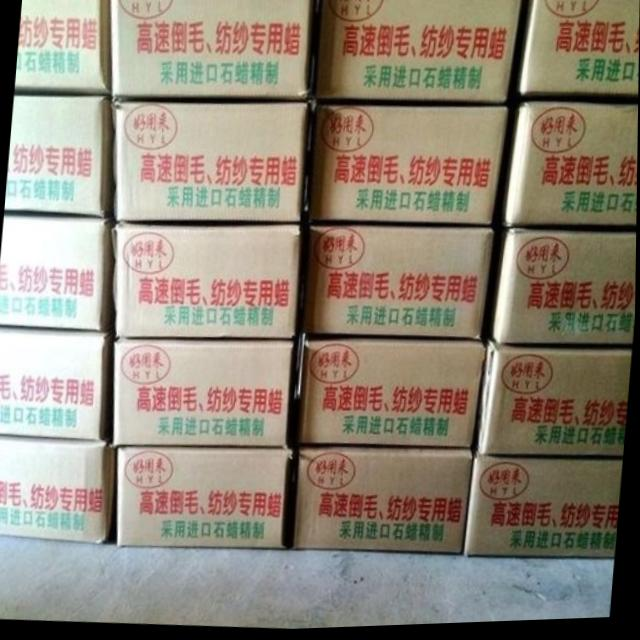box: (311, 108, 508, 227), (112, 105, 307, 224), (110, 223, 300, 339), (304, 228, 494, 342), (315, 0, 522, 104), (108, 0, 311, 101), (114, 338, 294, 449), (302, 344, 486, 449), (294, 449, 472, 555), (118, 448, 294, 551), (480, 346, 633, 462), (465, 456, 622, 562), (504, 107, 639, 229), (495, 235, 637, 348), (4, 94, 114, 216), (0, 216, 110, 333), (0, 327, 114, 439), (0, 435, 115, 546), (518, 0, 640, 99), (14, 0, 110, 94)
